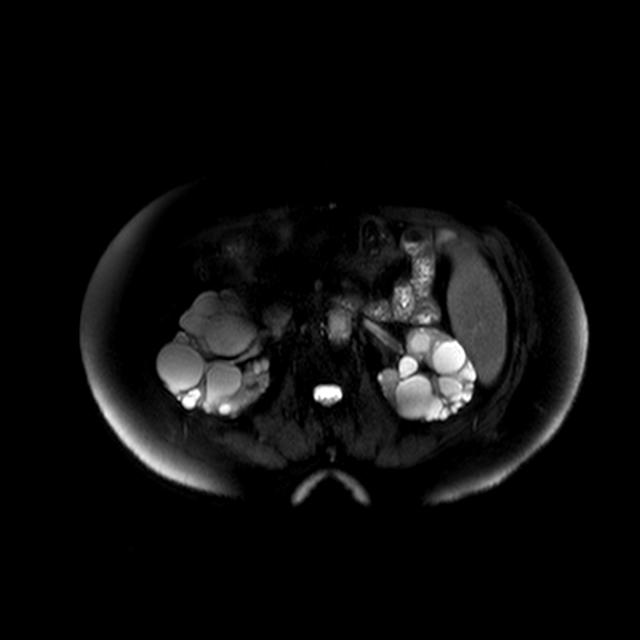sag: (155, 287, 271, 419)
sol: (378, 327, 478, 422)
